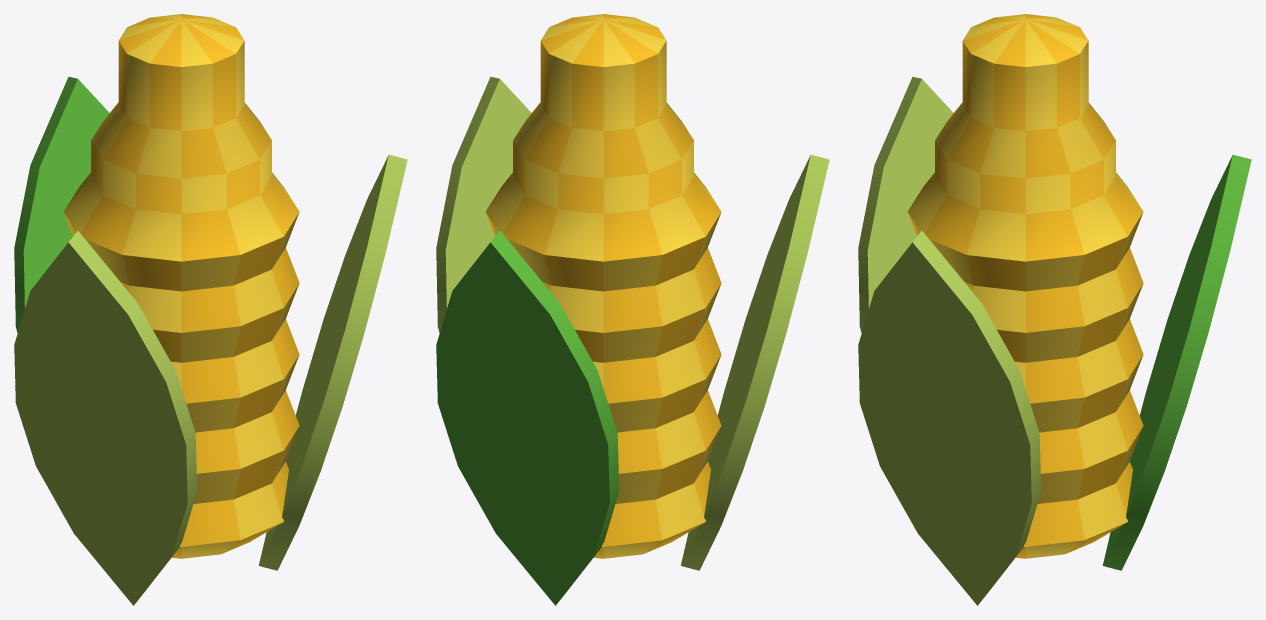
The model's file is Corn.fbx.
3 views of the same model, side by side, from view 1: azimuth 30°, elevation 25°; view 2: azimuth 150°, elevation 25°; view 3: azimuth 270°, elevation 25° (orthographic).
Parts seen in each view (by area): view 1: Corn; view 2: Corn; view 3: Corn.
Boxes of the visible parts, x1,y1,x2,y2 form: Corn: [14, 14, 407, 605]; Corn: [436, 14, 829, 605]; Corn: [858, 14, 1251, 605].
Bounding box in the file's own units: 1.04 × 1.55 × 1.
Materials: 1 (1 with a texture image).
